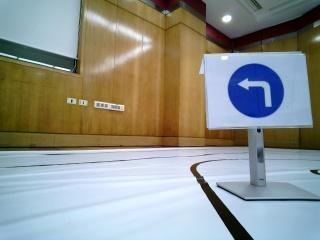left: (206, 59, 301, 125)
